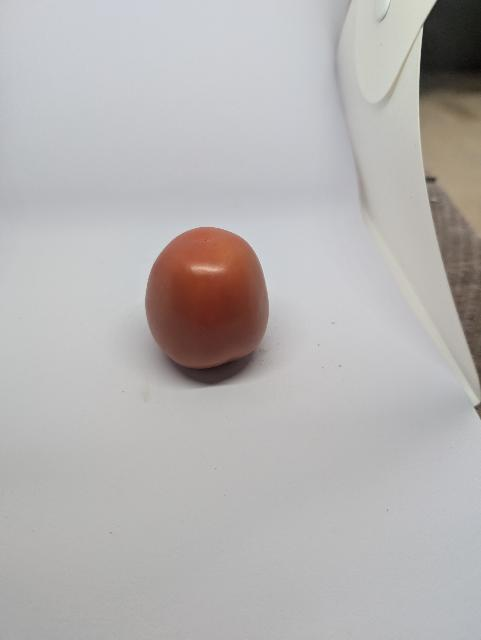red: (143, 218, 273, 387)
